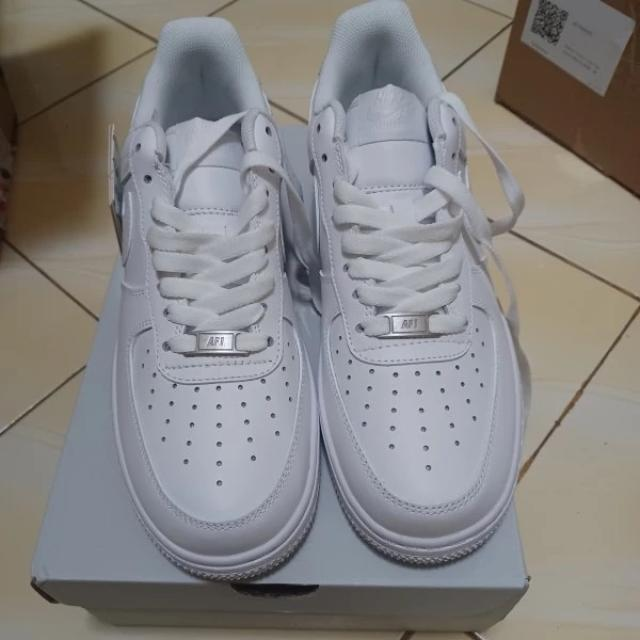nike original air force: (79, 15, 321, 580), (299, 2, 524, 556)
